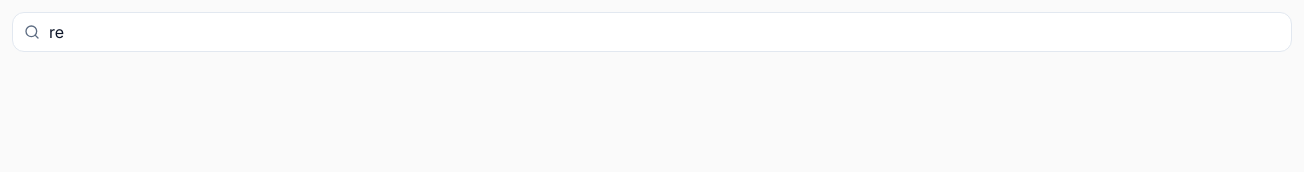
Test: SearchSelect › renderiza los resultados en el dropdown
Click the field with placeholder "Buscar...": (652, 32) 12,12 -> 1292,52
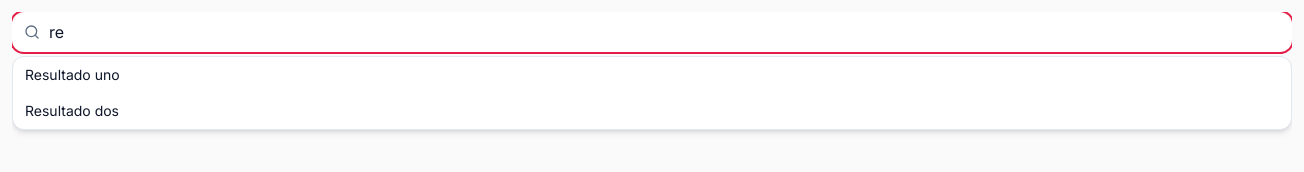
Result: the button "Resultado uno" is shown at 13,57 -> 1291,93
Result: the button "Resultado dos" is shown at 13,93 -> 1291,129
